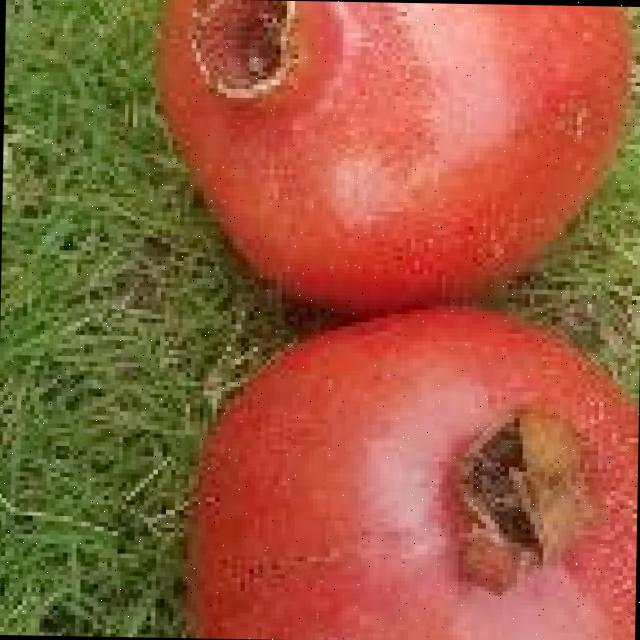Good_Lime-10-21 days: (132, 0, 640, 640)
